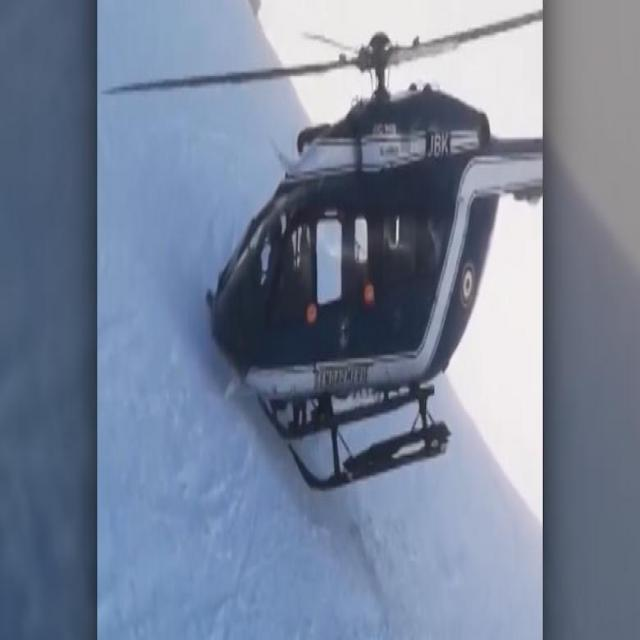helicopter: (99, 3, 544, 481)
